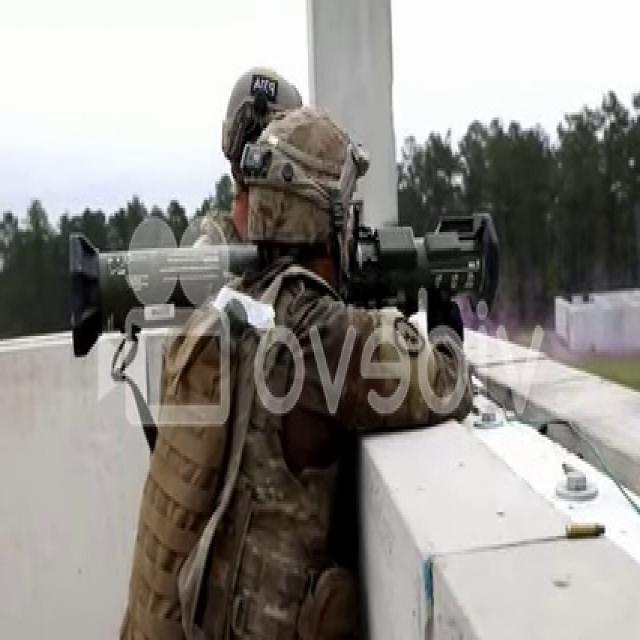rocket: (67, 212, 498, 354)
